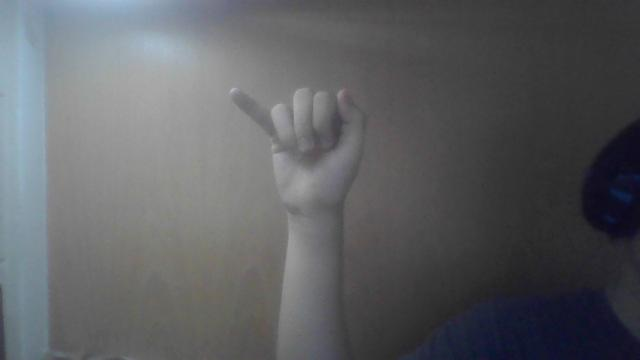Right: (222, 78, 364, 210)
